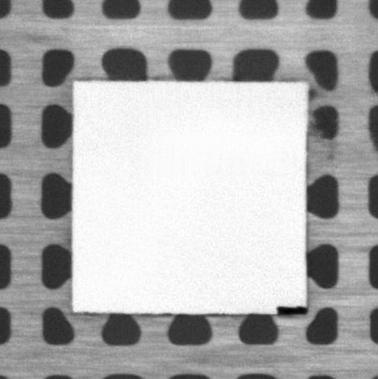DIE_BROKEN: (276, 303, 310, 315)
